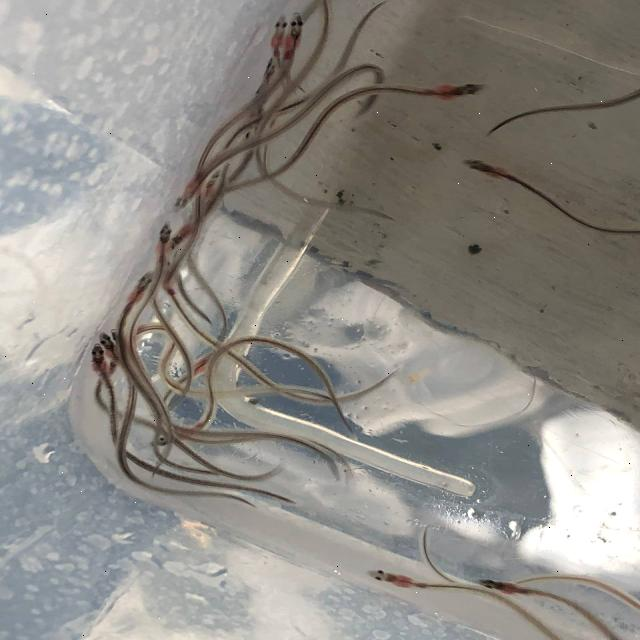glass_eel: (362, 567, 426, 593), (458, 157, 518, 181), (164, 176, 200, 213), (128, 268, 158, 310), (431, 81, 488, 103), (478, 576, 534, 598), (284, 12, 308, 56), (265, 15, 288, 54), (152, 222, 174, 262), (168, 220, 192, 253), (190, 350, 218, 376), (98, 332, 122, 362), (86, 343, 108, 375), (147, 433, 183, 449), (159, 263, 177, 293), (108, 328, 130, 352), (260, 57, 276, 87), (205, 168, 222, 195)
